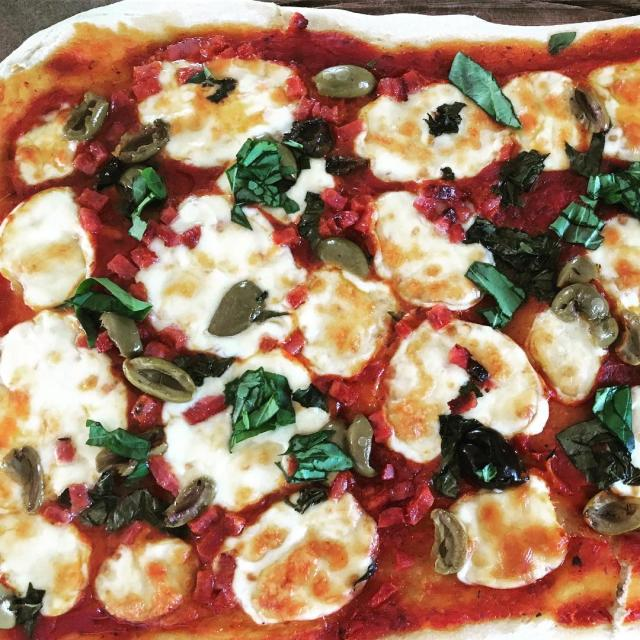basil: (462, 217, 560, 303), (559, 385, 637, 485), (222, 366, 297, 453), (66, 276, 152, 350), (225, 140, 297, 228), (446, 51, 525, 130), (433, 412, 482, 501), (278, 427, 352, 485), (463, 260, 525, 329), (82, 416, 150, 478), (491, 147, 552, 210), (546, 200, 606, 253), (588, 161, 640, 211), (10, 577, 48, 640), (562, 130, 610, 175), (129, 167, 169, 220), (172, 353, 236, 386), (423, 99, 468, 139), (291, 380, 329, 411), (546, 31, 579, 57)
black_olives: (456, 425, 530, 490), (286, 116, 338, 159)
green_olives: (552, 282, 619, 350), (122, 356, 195, 404), (208, 278, 266, 337), (1, 445, 47, 517), (580, 484, 640, 537), (428, 504, 470, 578), (163, 474, 218, 528), (110, 121, 173, 164), (62, 88, 112, 141), (310, 65, 378, 102), (564, 80, 610, 133), (316, 236, 371, 280), (100, 310, 145, 356), (318, 418, 347, 486), (347, 416, 377, 478), (616, 303, 640, 366), (554, 254, 597, 287), (270, 138, 299, 182), (118, 168, 144, 192)
pizza: (0, 0, 640, 640)
